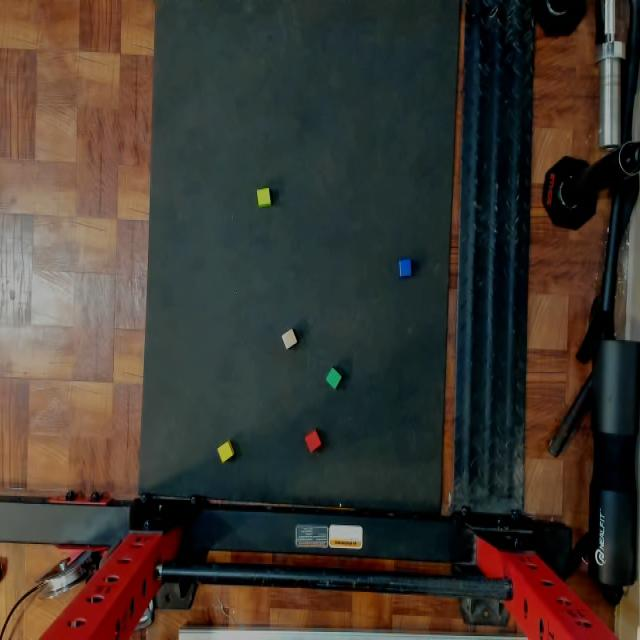block: (305, 429, 321, 451), (219, 440, 234, 463), (326, 367, 342, 388), (257, 187, 271, 207), (399, 259, 413, 277), (284, 329, 297, 348)
